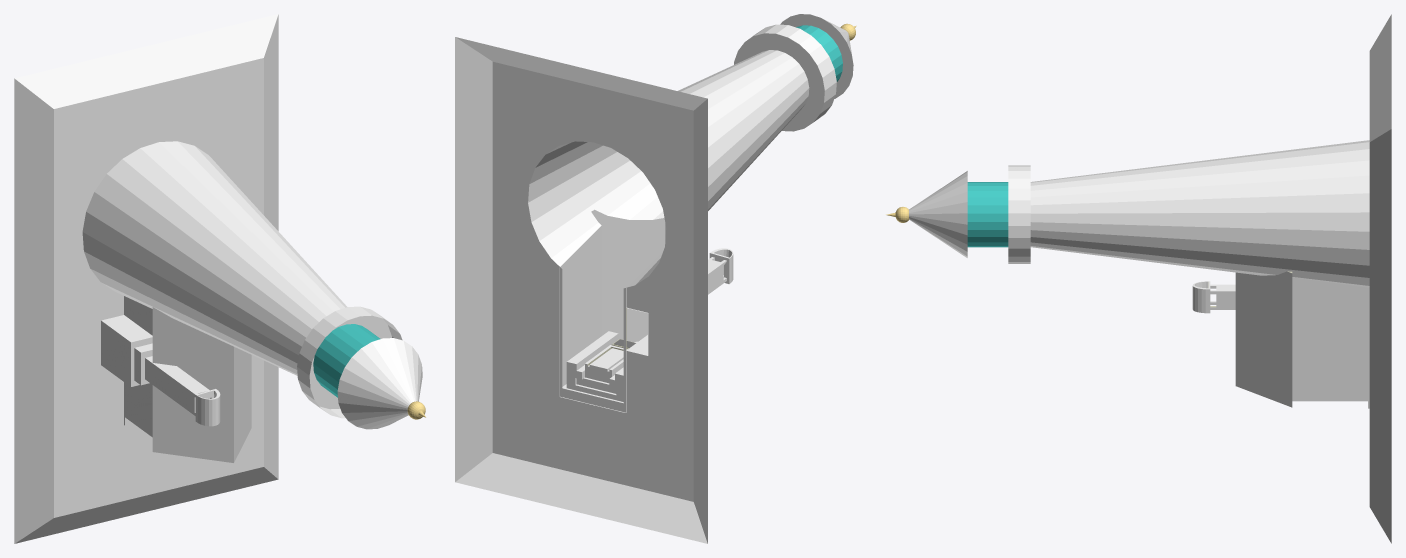
3 renders of one model, left to right at view 1: azimuth 30°, elevation 25°; view 2: azimuth 150°, elevation 25°; view 3: azimuth 270°, elevation 25°, orthographic. The views are drawn at different scales.
Parts seen in each view (by area): view 1: tin toy light house batteries not included; view 2: tin toy light house batteries not included; view 3: tin toy light house batteries not included.
Part boxes in pixels (x1=…): tin toy light house batteries not included: x1=14, y1=14, x2=425, y2=543; tin toy light house batteries not included: x1=455, y1=14, x2=856, y2=543; tin toy light house batteries not included: x1=886, y1=14, x2=1391, y2=543.
Bounding box in the file's own units: 631 × 1063 × 1175.
